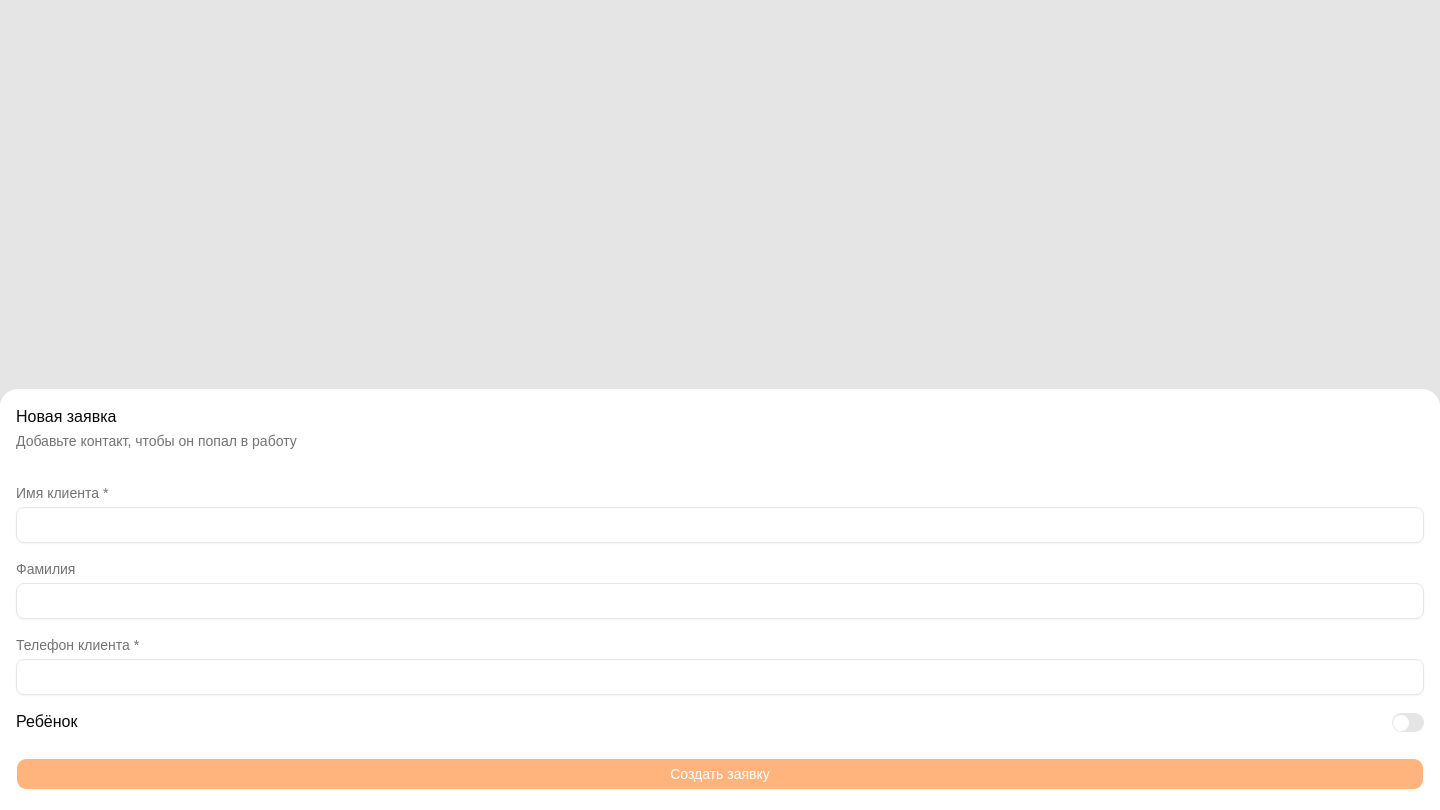
Test: ClientIntakeSheet › preserves the legacy foreign-trainer dismissal
The image size is (1440, 810).
Type "Пётр" into the field labelled "Имя клиента *".
click(720, 525); type("Пётр")  # box [16,507,1424,543]
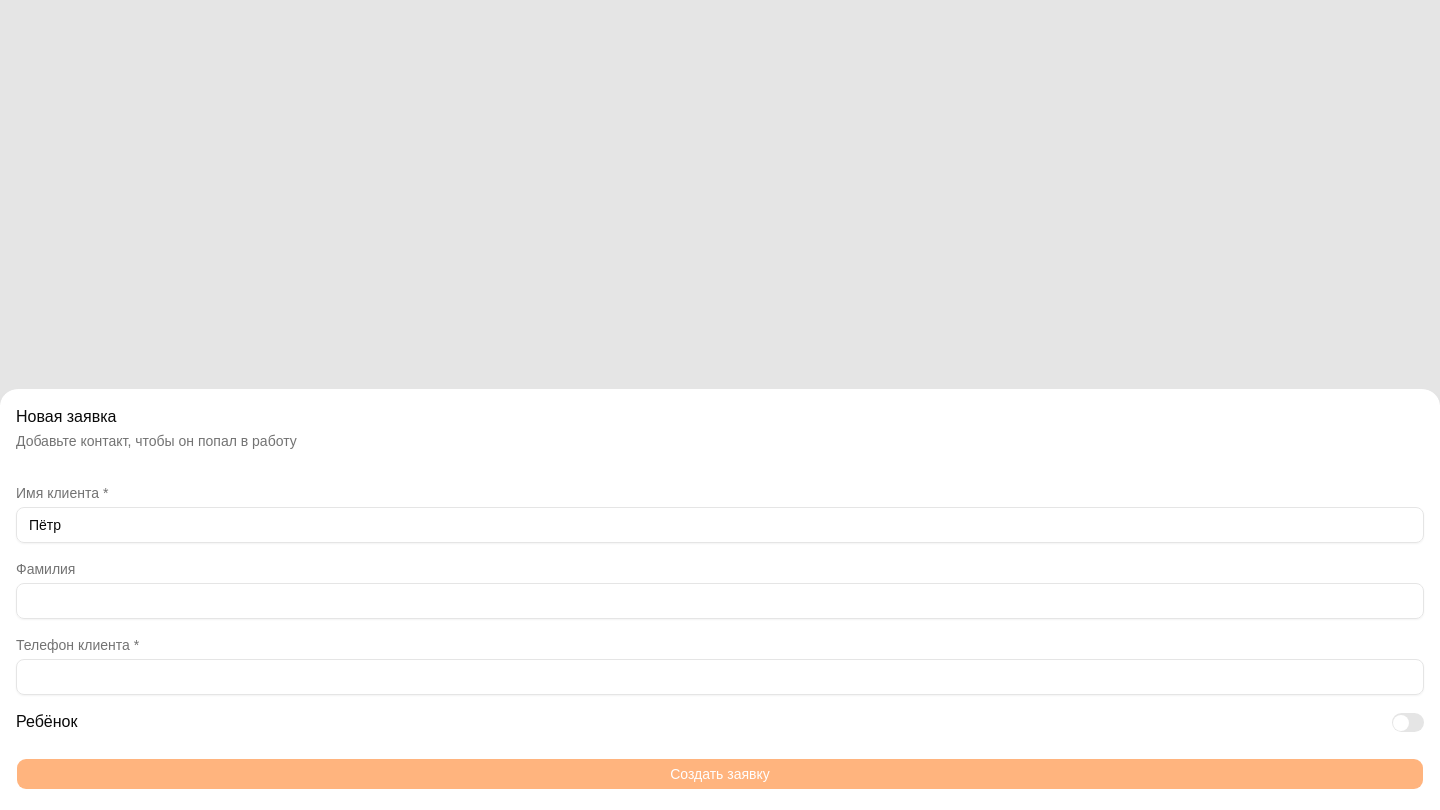
Type "+7 900 111-22-33" into the field labelled "Телефон клиента *".
click(720, 677); type("+7 900 111-22-33")  # box [16,659,1424,695]
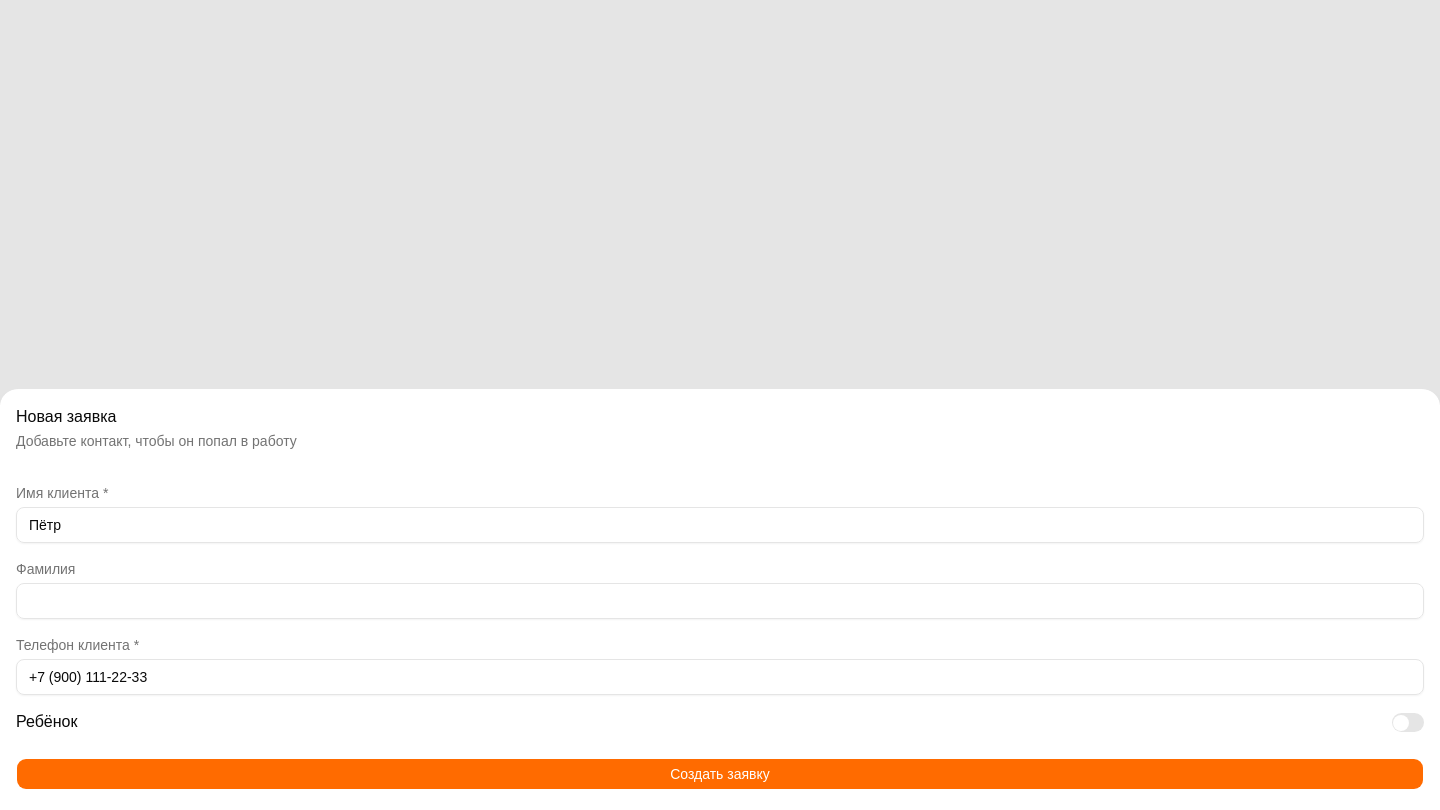
Click the button "Создать заявку".
click(720, 774)  # box [16,758,1424,790]
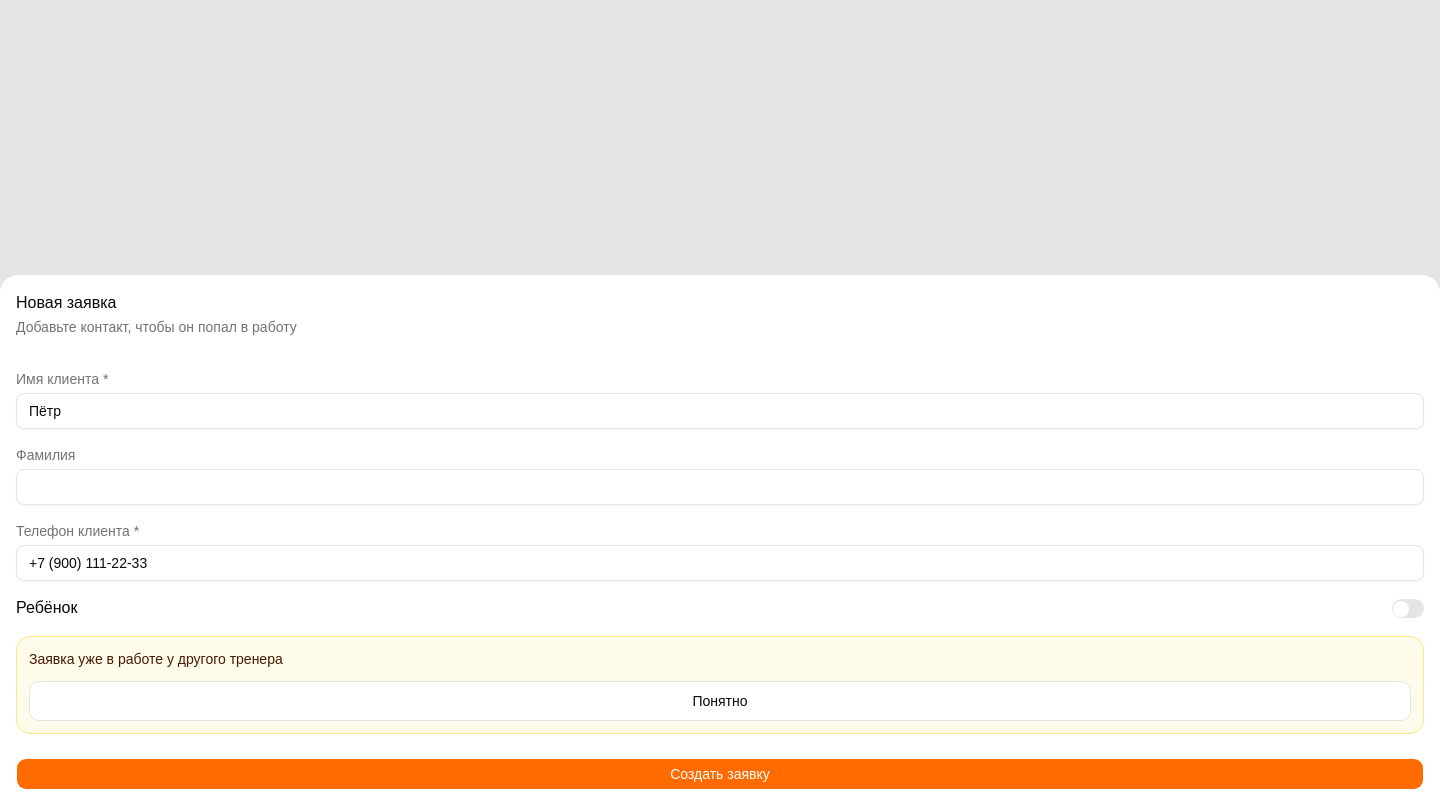
Now the text "Заявка уже в работе у другого тренера" is shown, box [29,651,283,667]
Click the button "Понятно".
click(720, 701)  # box [29,681,1411,721]
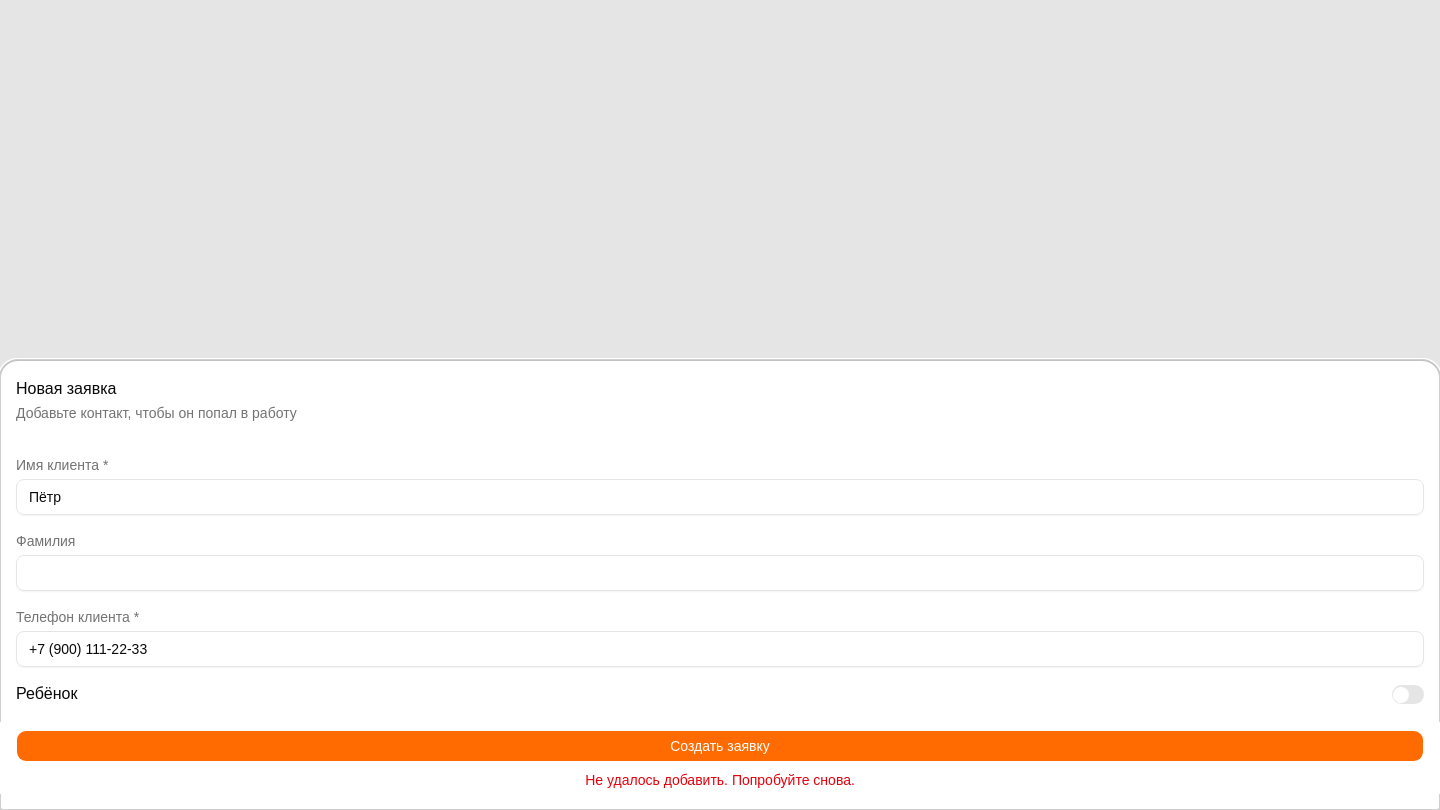
Now the text "Заявка уже в работе у другого тренера" is gone
